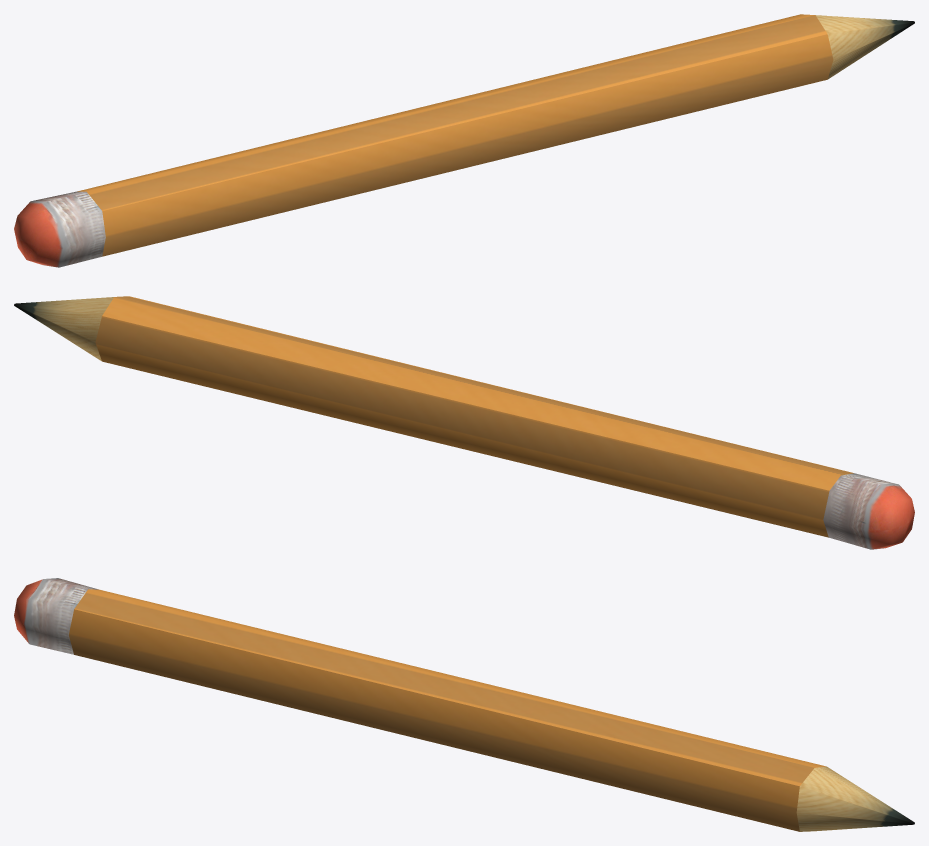
File: stift.fbx
The picture shows the model from 3 angles, top to bottom: view 1: azimuth 30°, elevation 25°; view 2: azimuth 150°, elevation 25°; view 3: azimuth 330°, elevation 25°; orthographic projection.
Visible parts, largest first — view 1: pen; view 2: pen; view 3: pen.
Boxes of the visible parts, x1,y1,x2,y2 form: pen: [14, 14, 914, 267]; pen: [14, 296, 914, 549]; pen: [14, 578, 914, 831].
Bounding box in the file's own units: 16.39 × 1.11 × 1.18.
